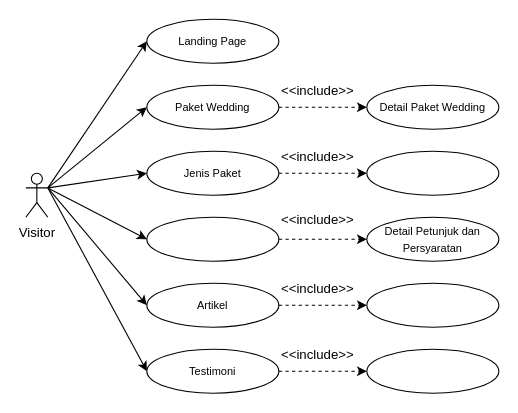
This 518x413 diagram has some shape labels left out. The box of each missing label's shape, as (x1, y1, x2, y2) in pixels:
Detail Artikel: (366, 282, 499, 327)
Detail Jenis Paket: (366, 150, 499, 195)
Detail Testimoni: (366, 348, 499, 393)
Petunjuk dan Persyaratan: (146, 216, 279, 261)
